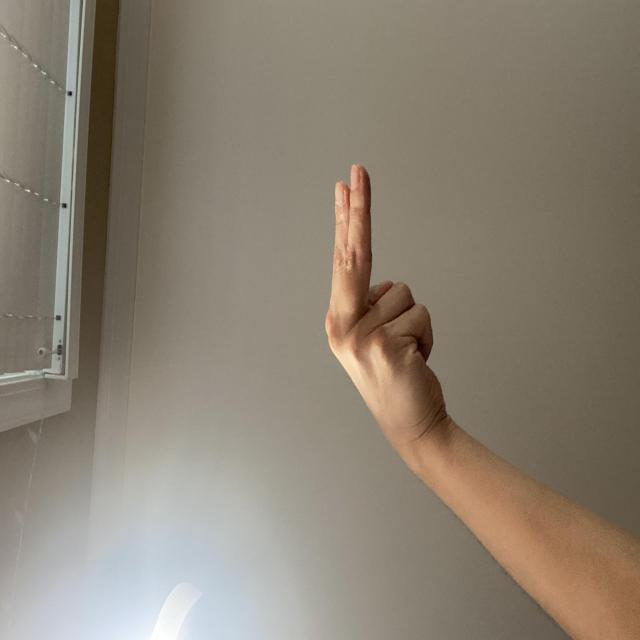H: (138, 426, 364, 586)
